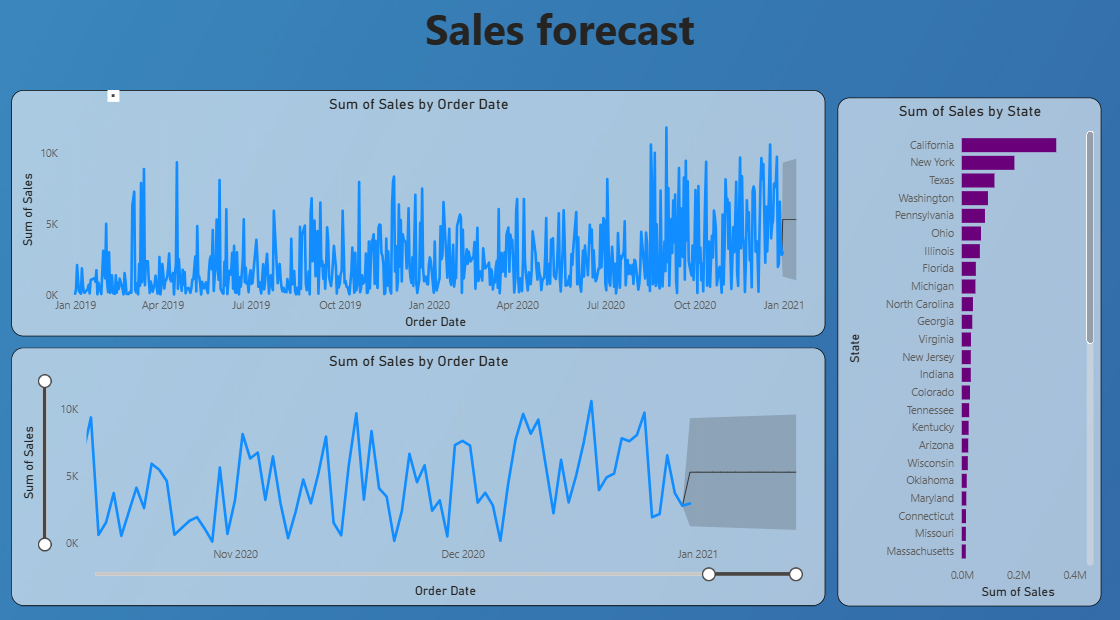

This screenshot's page, from the dashboard's own definition file:
{"tool":"powerbi","page":{"name":"Page 2","canvas":[1280,720],"ordinal":1},"visuals":[{"type":"lineChart","fields":{"Y":["Sum(SuperStore_Sales_Dataset (1).Sales)"],"Category":["SuperStore_Sales_Dataset (1).Order Date"]},"box":[13.3,108.3,930,281.7],"z":0},{"type":"lineChart","fields":{"Y":["Sum(SuperStore_Sales_Dataset (1).Sales)"],"Category":["SuperStore_Sales_Dataset (1).Order Date"]},"box":[13.3,403.3,930,295],"z":1000},{"type":"textbox","box":[123.3,108.3,13.3,13.3],"z":1001},{"type":"textbox","box":[421.7,0,436.7,76.7],"z":1002},{"type":"barChart","fields":{"Y":["Sum(SuperStore_Sales_Dataset (1).Sales)"],"Category":["SuperStore_Sales_Dataset (1).State"]},"box":[956.7,116.7,301.7,581.7],"z":1003}]}

Visuals, with their boxes in screenshot pixels (x1, y1, x2, y2), scaled from the page's 1280x720 canvas onto the 1120x620 screenshot:
lineChart - Sum(SuperStore_Sales_Dataset (1).Sales) x SuperStore_Sales_Dataset (1).Order Date: [left=12, top=93, right=825, bottom=336]
lineChart - Sum(SuperStore_Sales_Dataset (1).Sales) x SuperStore_Sales_Dataset (1).Order Date: [left=12, top=347, right=825, bottom=601]
textbox: [left=108, top=93, right=120, bottom=105]
textbox: [left=369, top=0, right=751, bottom=66]
barChart - Sum(SuperStore_Sales_Dataset (1).Sales) x SuperStore_Sales_Dataset (1).State: [left=837, top=100, right=1101, bottom=601]
